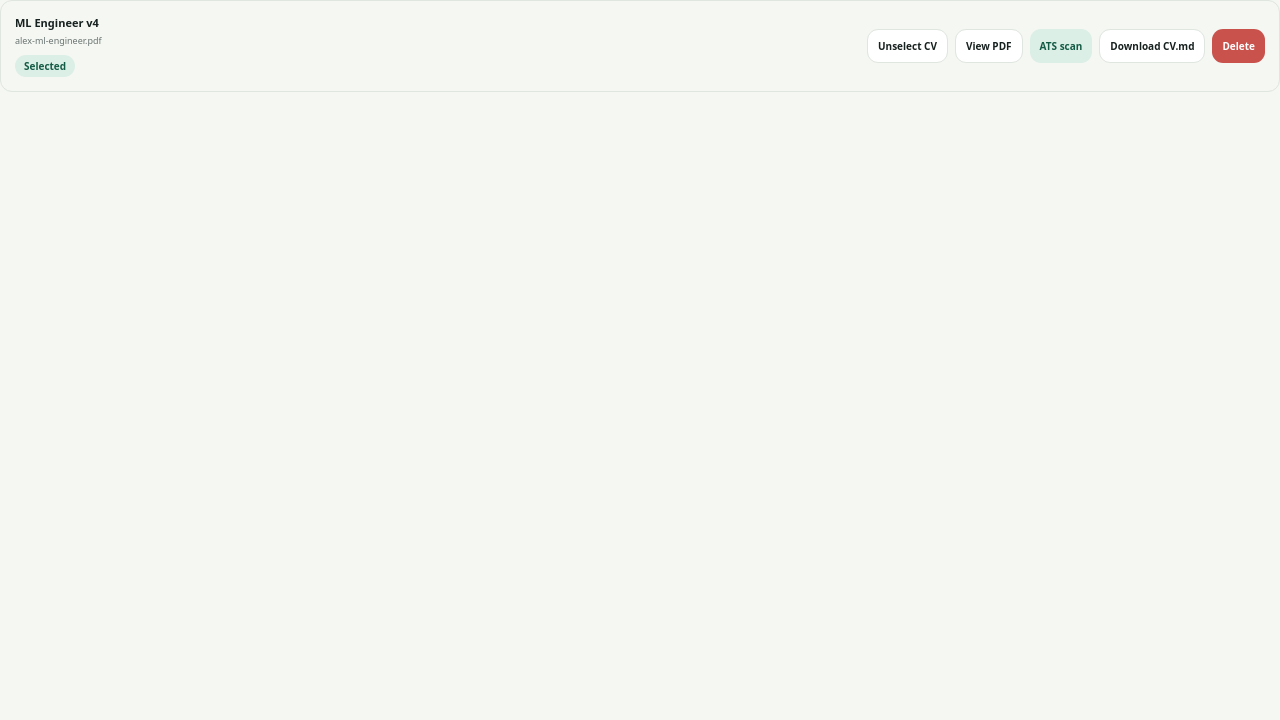
Test: CvLibrary › closes the ATS dialog with Escape and returns focus to its action
The width and height of the screenshot is (1280, 720).
Click the button with aria-label "ATS scan for ML Engineer v4" at coordinates (1061, 46), box [1030,29,1092,63]
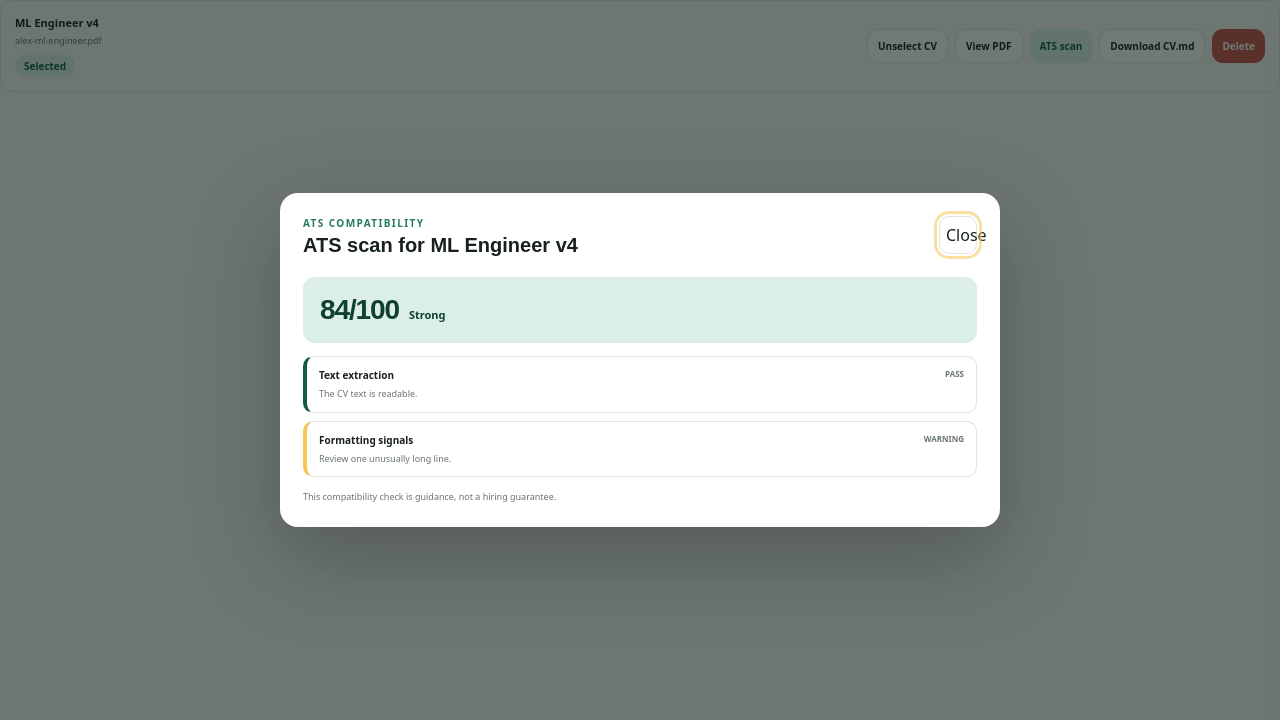
Press Escape in the button with aria-label "Close ATS scan for ML Engineer v4", box [939,216,977,254]
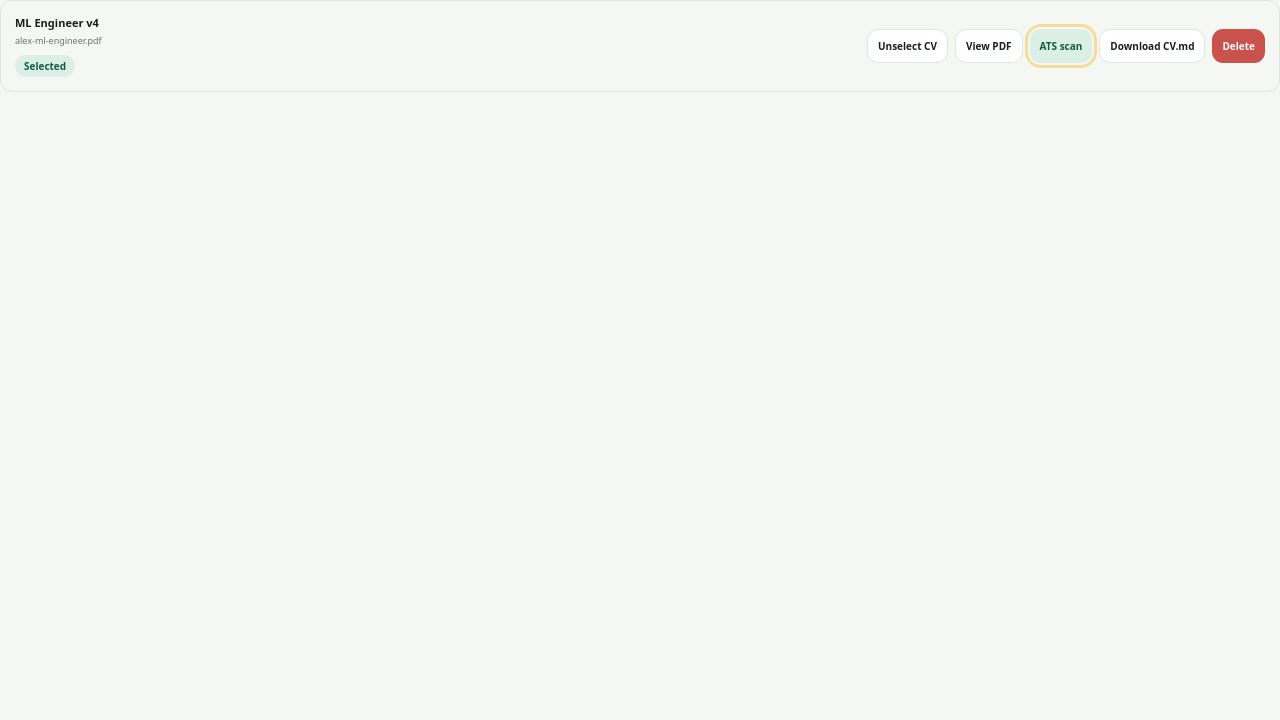
Now the heading "ATS scan for ML Engineer v4" is gone
